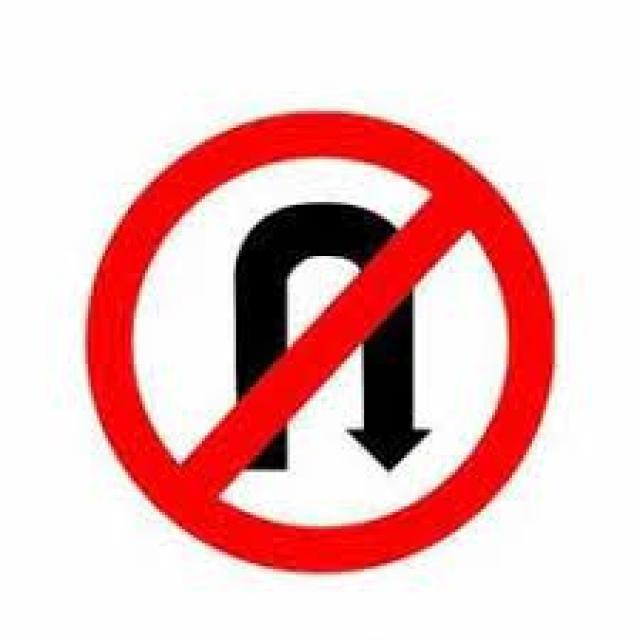u turn prohibited: (85, 112, 564, 581)
